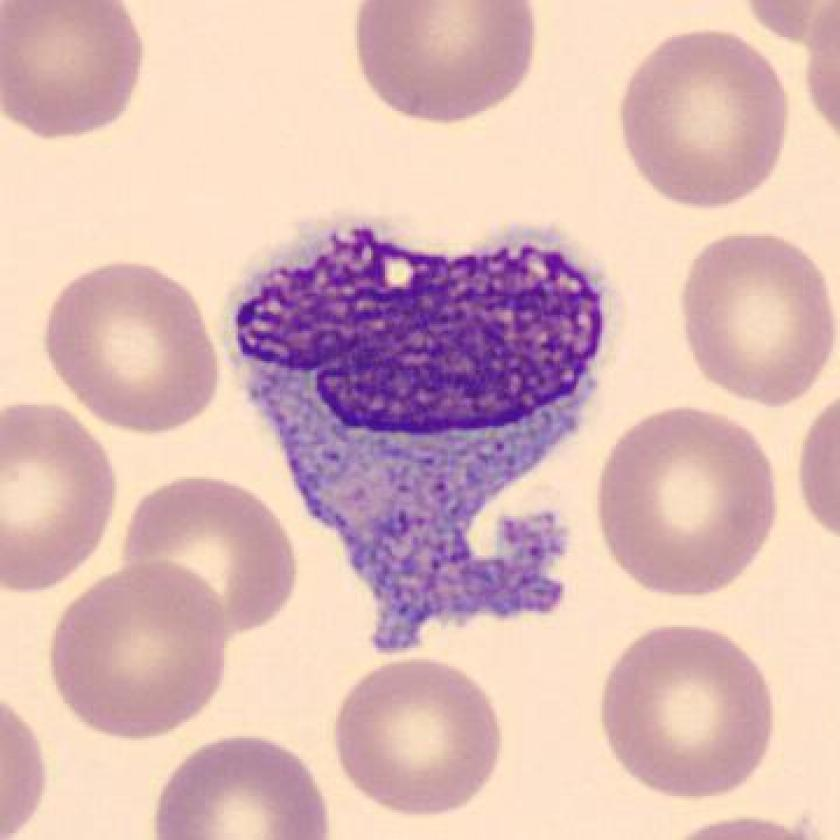monocyte: (206, 193, 631, 672)
